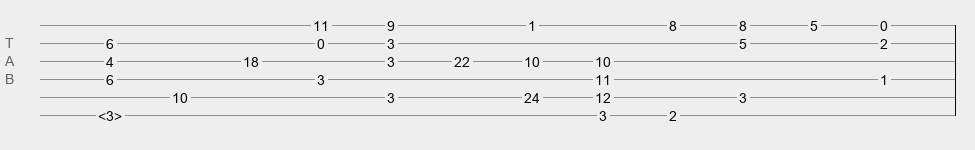0: (317, 36, 325, 46), (880, 18, 888, 28)
1: (528, 18, 536, 28), (880, 72, 888, 82)
10: (172, 90, 188, 100), (524, 54, 540, 64), (595, 54, 611, 64)
11: (313, 18, 329, 28), (595, 72, 611, 82)
12: (595, 90, 611, 100)
18: (243, 54, 259, 64)
2: (669, 108, 677, 118), (880, 36, 888, 46)
22: (454, 54, 470, 64)
24: (524, 90, 540, 100)
3: (317, 72, 325, 82), (387, 90, 395, 100), (387, 54, 395, 64), (387, 36, 395, 46), (599, 108, 607, 118), (739, 90, 747, 100)
4: (106, 54, 114, 64)
5: (739, 36, 747, 46), (810, 18, 818, 28)
6: (106, 72, 114, 82), (106, 36, 114, 46)
8: (669, 18, 677, 28), (739, 18, 747, 28)
9: (387, 18, 395, 28)
harmonic: (98, 108, 122, 118)
